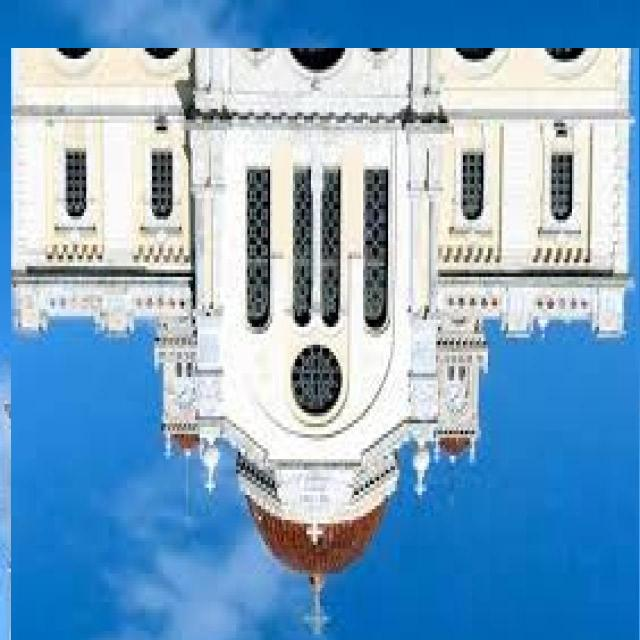Agios Minas: (12, 49, 640, 640)
